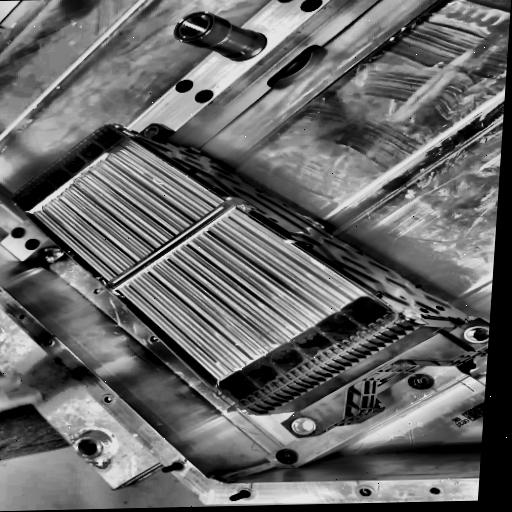battery_module: (8, 123, 427, 419)
